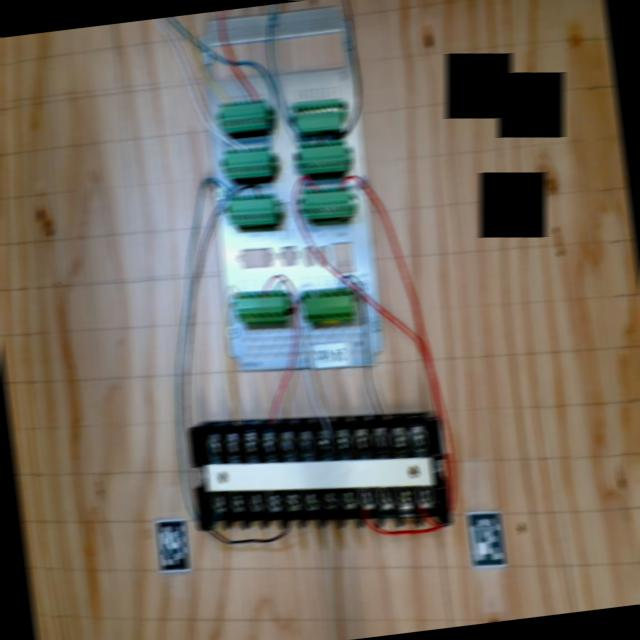Flathead_Block: (188, 418, 451, 534)
Terminal_1: (300, 285, 355, 322), (234, 288, 286, 322)
Terminal_2: (296, 139, 348, 173), (300, 185, 352, 218), (221, 145, 273, 178), (218, 98, 268, 132), (226, 192, 276, 225)
